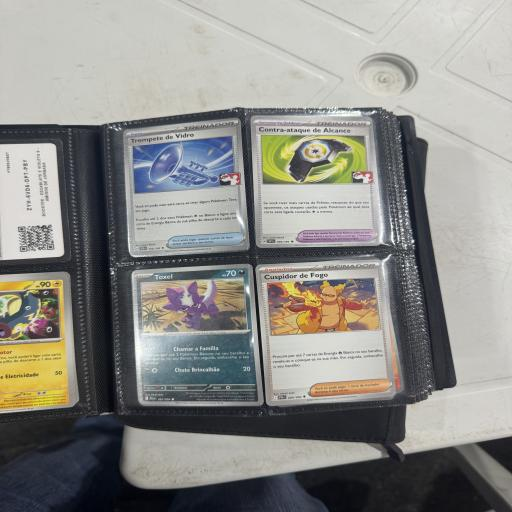card: (256, 256, 392, 406), (131, 263, 264, 413), (251, 111, 382, 251), (123, 117, 251, 258)
